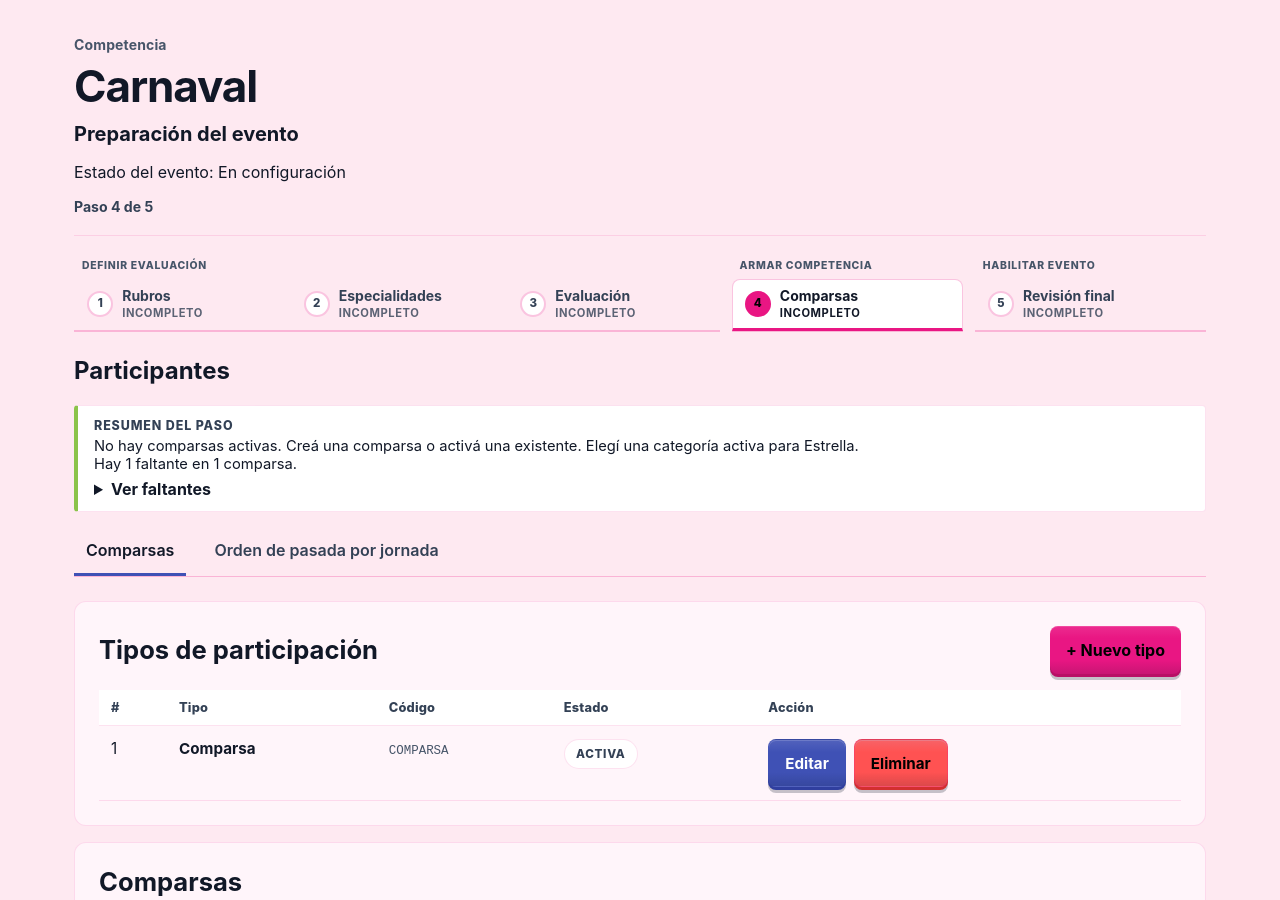
Test: AdminCompetenciaPage › explica los bloqueos de cada paso con instrucciones para el administrador
This screenshot has width=1280, height=900.
Expected: the text "Elegí una categoría activa para Estrella" is shown, [94,437,859,455]
Expected: the text "Hay 1 faltante en 1 comparsa." is shown, [94,455,297,473]
Click the button "2 Especialidades Incompleto" at (397, 305), box [290,279,503,331]
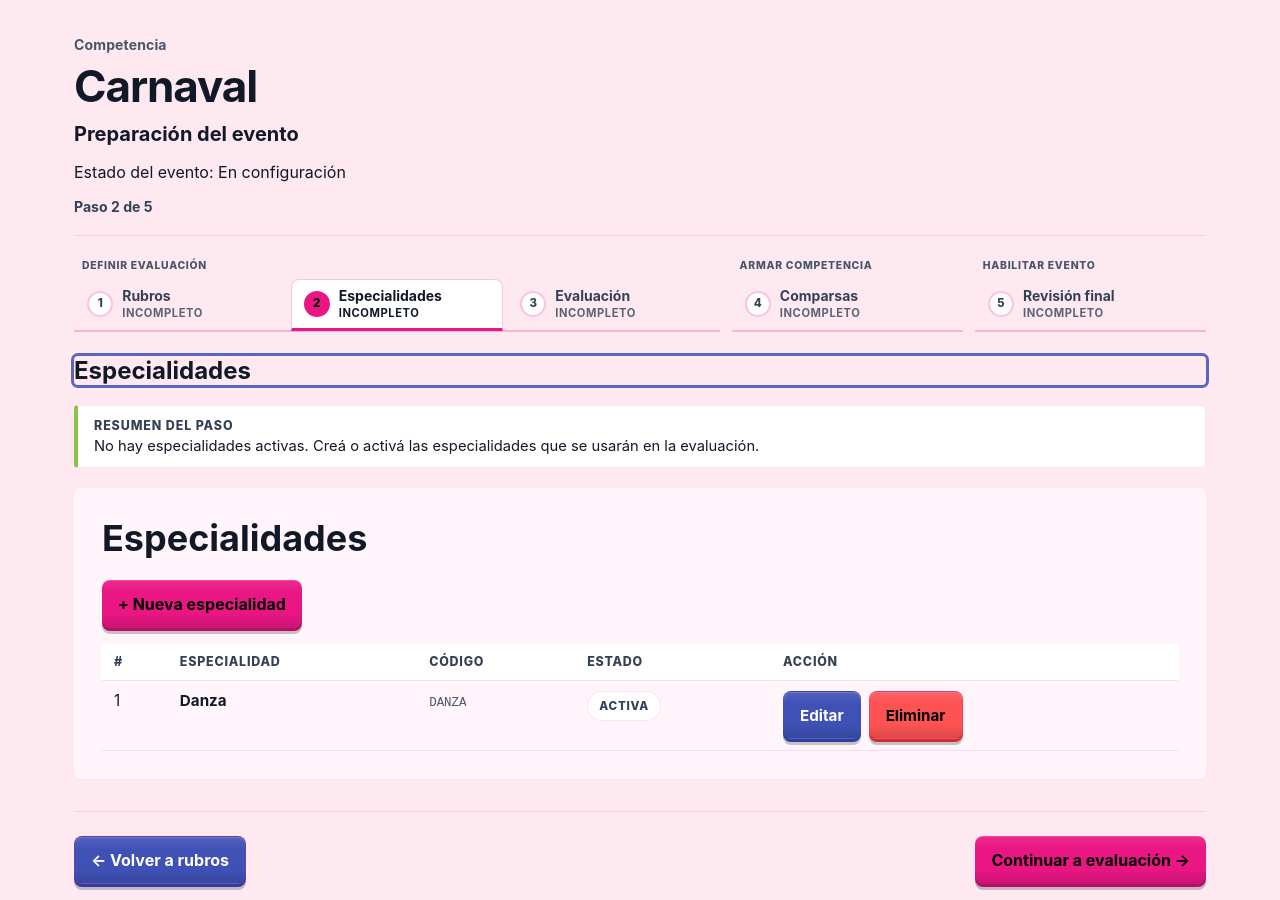
Click the button "3 Evaluación Incompleto" at (613, 305), box [507,279,720,331]
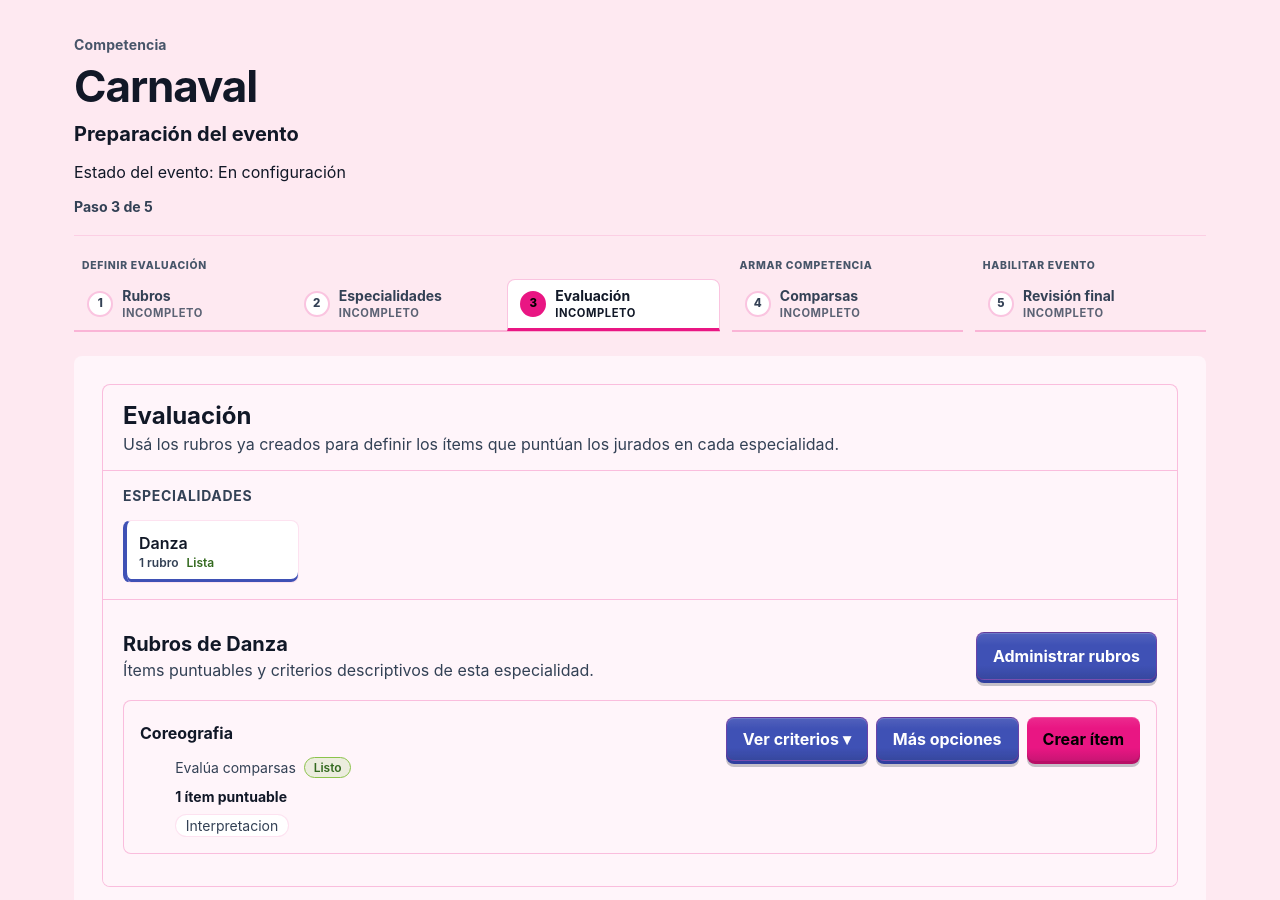
Click the button "5 Revisión final Incompleto" at (1090, 305), box [975,279,1206,331]
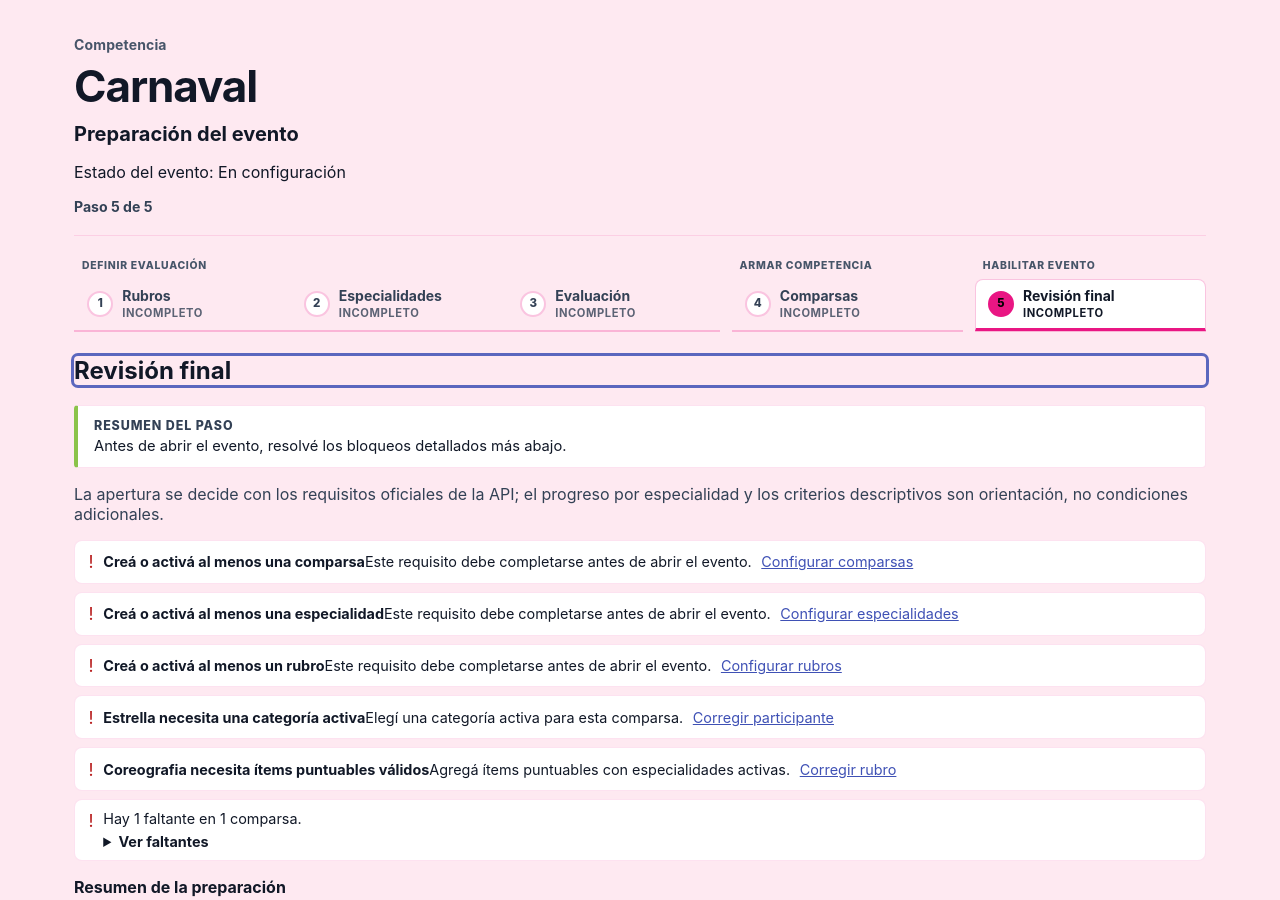
Now the text "Antes de abrir el evento, resolvé los bloqueos detallados más abajo." is shown, box [94,437,566,455]
